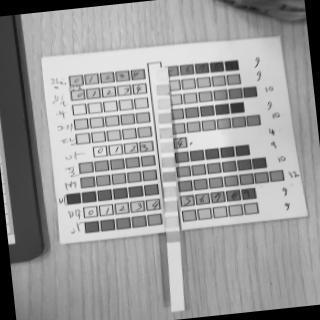mark: (157, 98, 170, 110), (168, 231, 180, 243), (159, 112, 171, 124), (162, 157, 175, 168), (166, 216, 178, 227), (165, 201, 177, 212), (163, 171, 175, 182), (156, 84, 168, 95), (159, 128, 172, 138), (164, 186, 176, 196), (160, 142, 172, 152), (158, 72, 168, 81)
